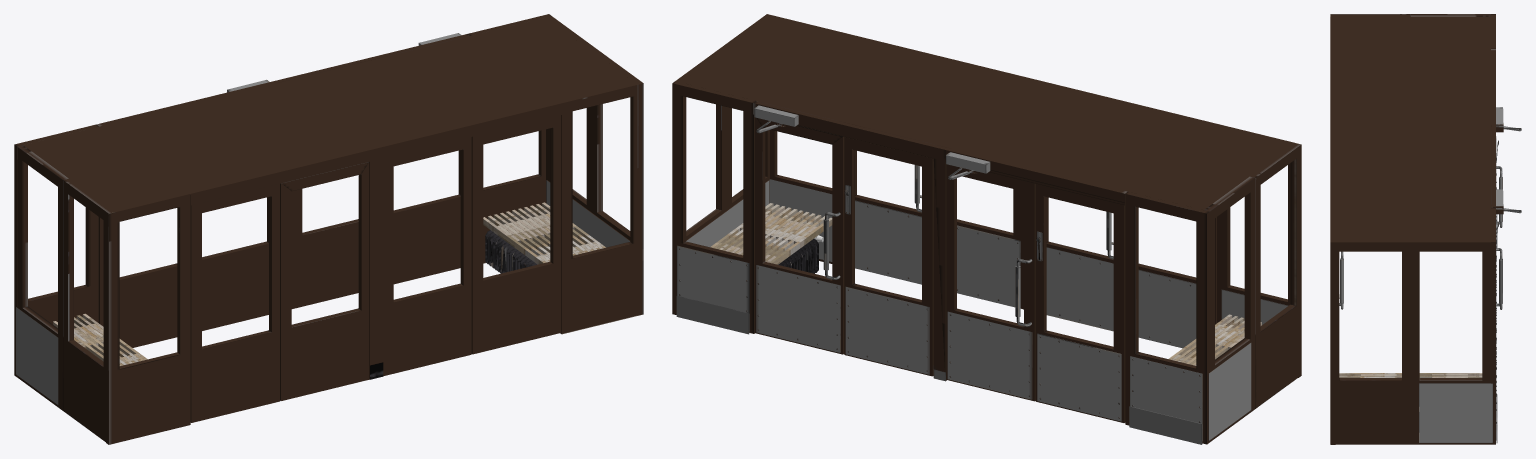
Rendered from EntranceDoor.fbx.
3 renders of one model, left to right at view 1: azimuth 30°, elevation 25°; view 2: azimuth 150°, elevation 25°; view 3: azimuth 270°, elevation 25°, orthographic. The views are drawn at different scales.
Parts seen in each view (by area): view 1: Cylinder.034; view 2: Cylinder.034; view 3: Cylinder.034.
Part boxes in pixels (x1,y1,x2,y2): Cylinder.034: [14, 14, 643, 444]; Cylinder.034: [672, 14, 1301, 444]; Cylinder.034: [1330, 14, 1521, 444].
Size of the model in its own units: 624 by 264 by 221.
Materials: 1 (1 with a texture image).
